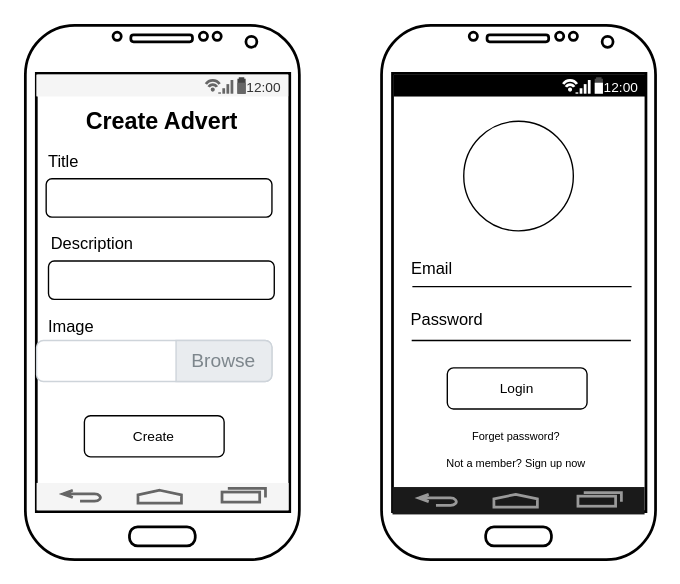
Image size: 680x584. Some labels were removed from this diagram. The centre of each missing label's shape, as x and y in pixels:
Choose file: point 153,360
LOGO: point 517,175
